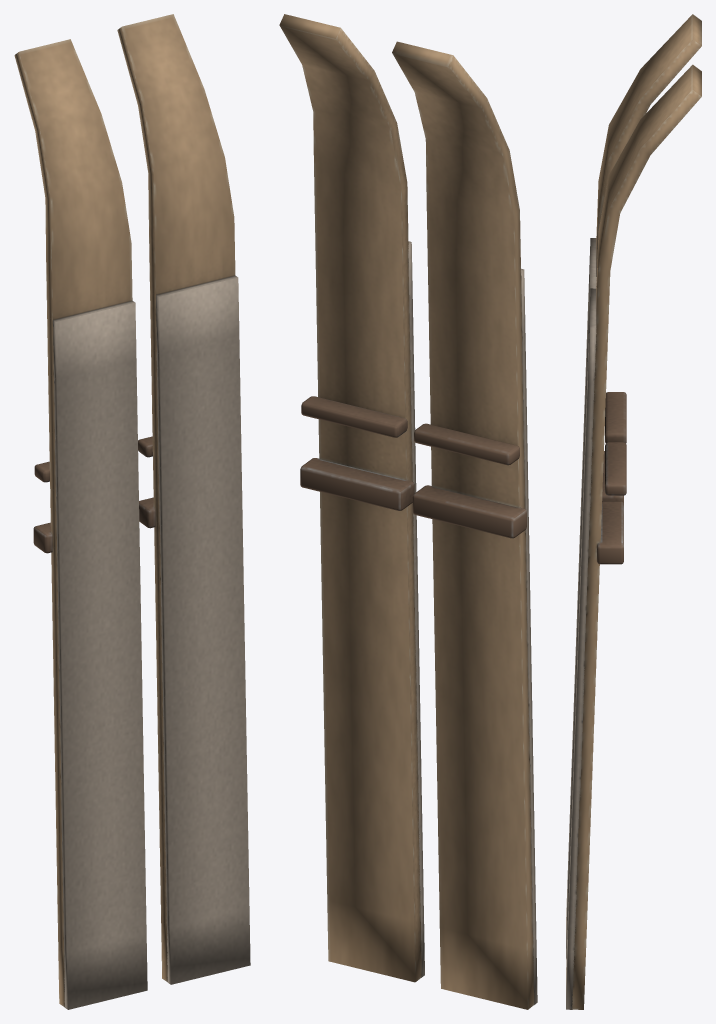
File: lake_skis.glb
3 renders of one model, left to right at view 1: azimuth 30°, elevation 25°; view 2: azimuth 150°, elevation 25°; view 3: azimuth 270°, elevation 25°, orthographic. The views are drawn at different scales.
Parts seen in each view (by area): view 1: lake_skis; view 2: lake_skis; view 3: lake_skis.
Boxes of the visible parts, box(x1,y1,x2,y2) form: lake_skis: box(14, 14, 250, 1009); lake_skis: box(279, 14, 537, 1009); lake_skis: box(566, 14, 701, 1009).
Bounding box in the file's own units: 0.42 × 1.86 × 0.2505.
Materials: 1 (1 with a texture image).
